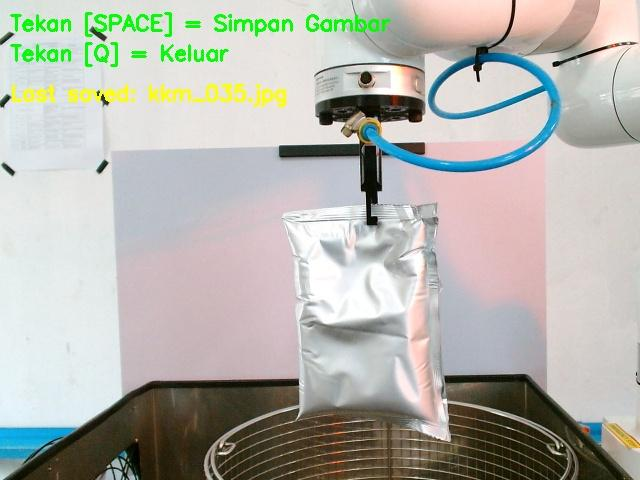retort-pouch: (283, 202, 452, 434)
